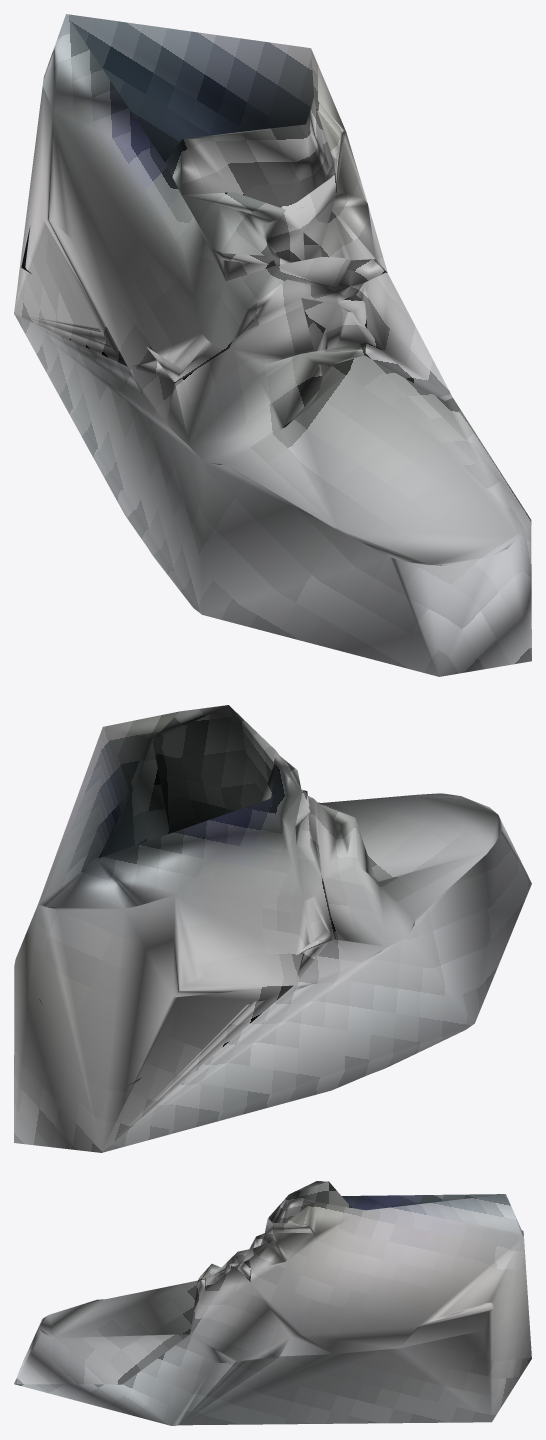
Rendered from Womens_Betty_Chukka_Boot_in_Grey_Jersey_Sequin-low.glb.
3 renders of one model, top to bottom at view 1: azimuth 30°, elevation 25°; view 2: azimuth 150°, elevation 25°; view 3: azimuth 270°, elevation 25°, orthographic. The views are drawn at different scales.
Visible parts, largest first — view 1: Womens_Betty_Chukka_Boot_in_Grey_Jersey_Sequin; view 2: Womens_Betty_Chukka_Boot_in_Grey_Jersey_Sequin; view 3: Womens_Betty_Chukka_Boot_in_Grey_Jersey_Sequin.
Boxes of the visible parts, x1,y1,x2,y2 form: Womens_Betty_Chukka_Boot_in_Grey_Jersey_Sequin: (14, 14, 531, 676); Womens_Betty_Chukka_Boot_in_Grey_Jersey_Sequin: (14, 705, 531, 1152); Womens_Betty_Chukka_Boot_in_Grey_Jersey_Sequin: (14, 1181, 531, 1425).
Size of the model in its own units: 0.0884 by 0.1126 by 0.2443.
Materials: 1 (1 with a texture image).
